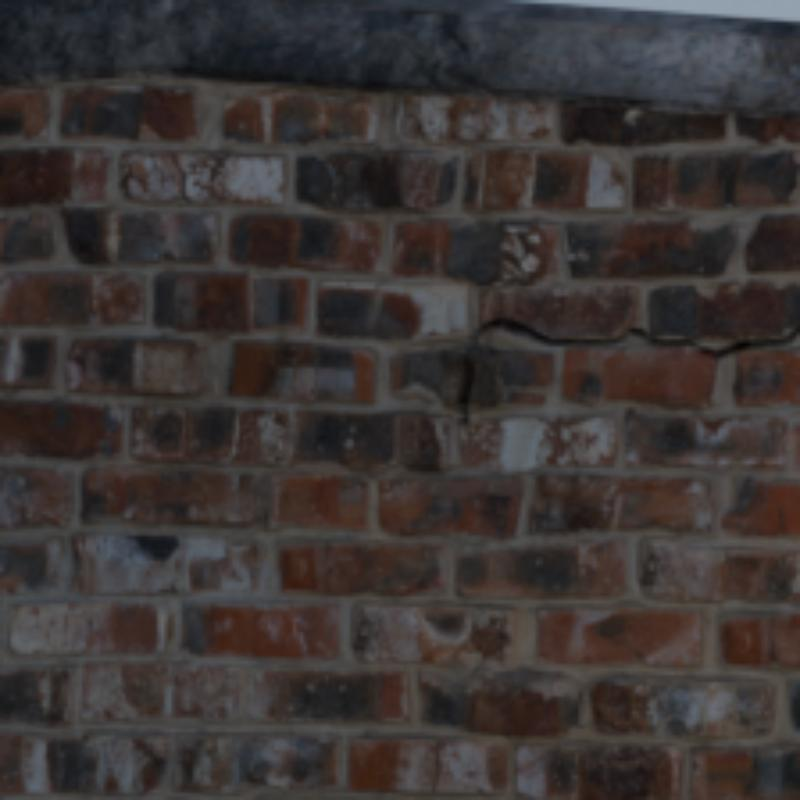pothole: (457, 318, 796, 432)
